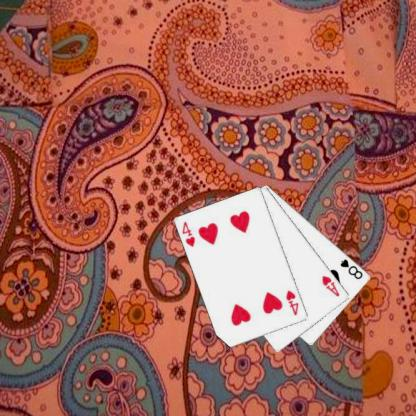4H: (179, 219, 197, 248), (284, 287, 300, 317)
8S: (338, 256, 364, 281)
AH: (319, 272, 341, 298)
